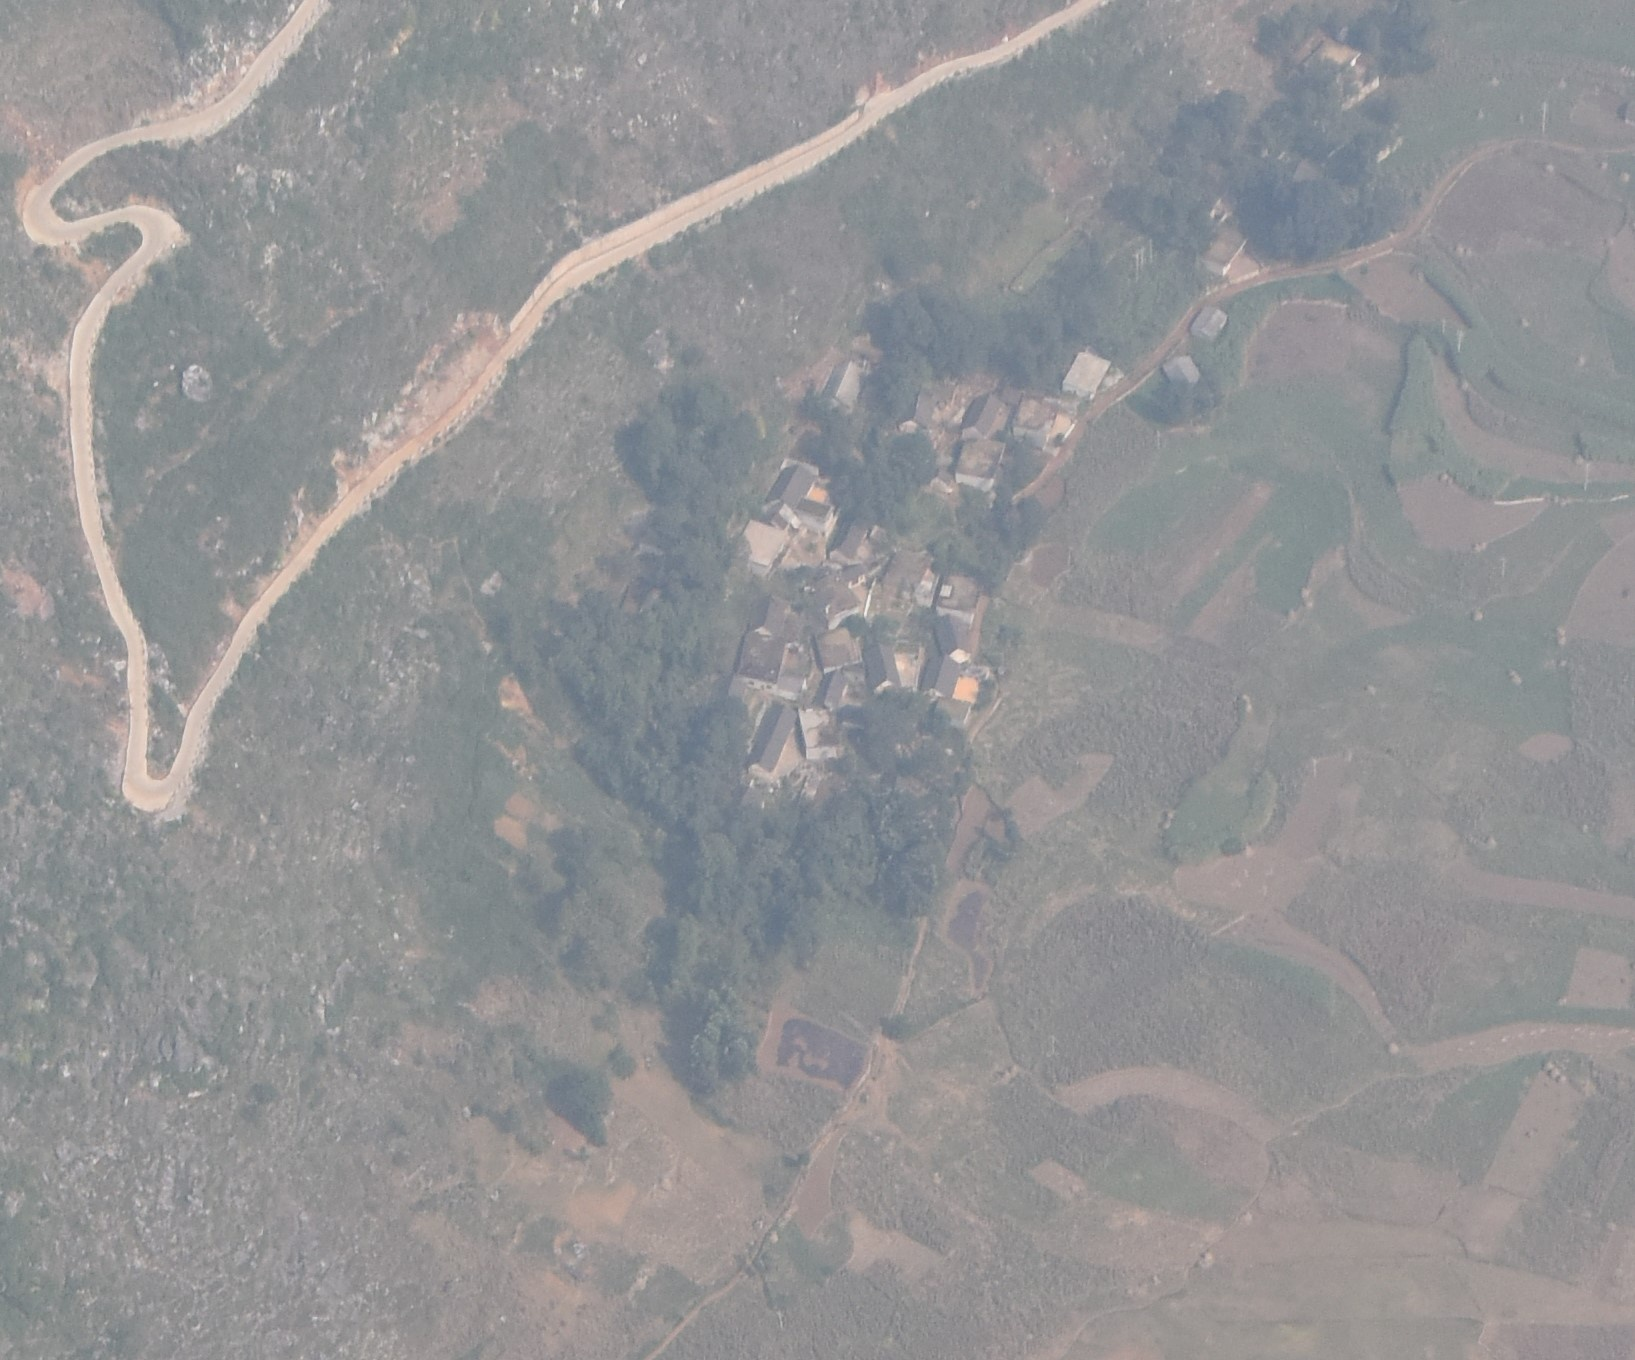building: (736, 595, 806, 696), (1304, 32, 1380, 108), (763, 464, 841, 538), (1013, 396, 1077, 454), (804, 563, 869, 618), (748, 700, 795, 771), (883, 551, 938, 607), (829, 521, 888, 568), (954, 436, 1005, 489), (737, 519, 786, 566), (1062, 351, 1113, 396), (797, 707, 837, 760), (814, 630, 861, 674), (934, 573, 982, 616), (822, 360, 863, 410), (1199, 231, 1245, 275), (960, 394, 1004, 439), (863, 643, 900, 691), (919, 655, 958, 699), (932, 614, 971, 658), (1189, 306, 1228, 342), (1161, 356, 1200, 391), (931, 697, 973, 727), (818, 672, 848, 711)
cable-tower: (1538, 101, 1549, 134), (1582, 463, 1590, 492), (1499, 556, 1508, 581), (1454, 328, 1463, 351), (1310, 756, 1318, 776), (1440, 320, 1446, 337)
